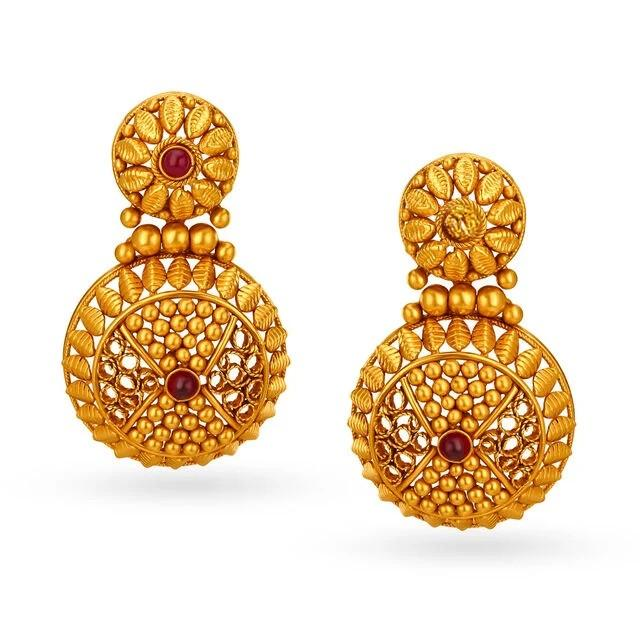missing gem: (443, 206, 481, 242)
